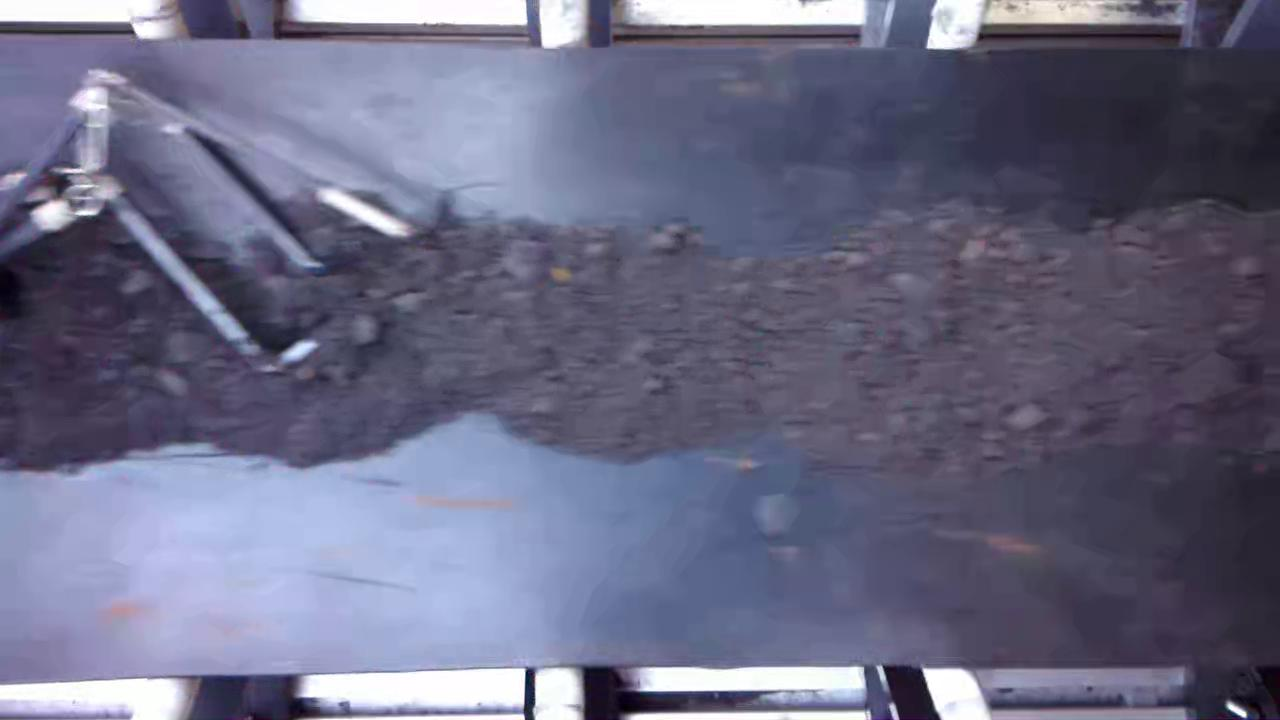conveyor: (10, 54, 1279, 656)
